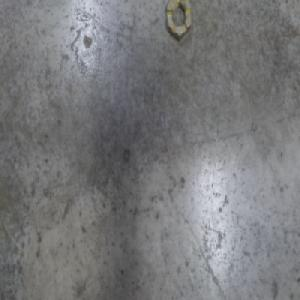Nut: (166, 0, 192, 41)
